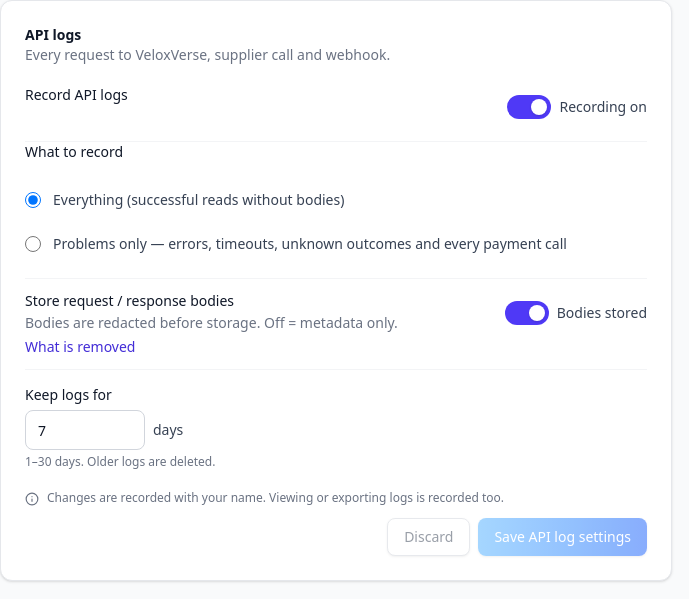
Scenario: ApiLogSettingsCard › keeps Save disabled until something changes
expect the button "Save API log settings" is disabled: met, box top-left (478, 518), bottom-right (647, 556)
Click the radio button labelled "Problems only".
click(33, 244)  # box top-left (25, 236), bottom-right (41, 252)
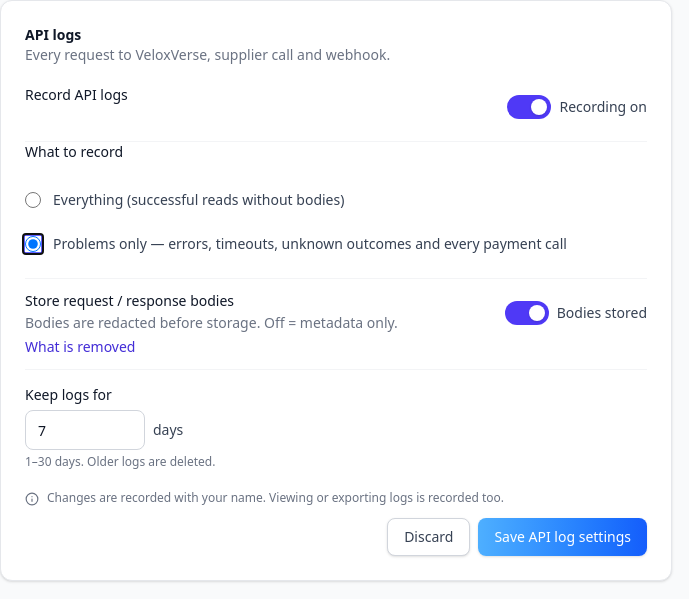
expect the button "Save API log settings" is enabled: met, box top-left (478, 518), bottom-right (647, 556)
Click the radio button labelled "Everything (successful reads without bodies)".
click(33, 200)  # box top-left (25, 192), bottom-right (41, 208)
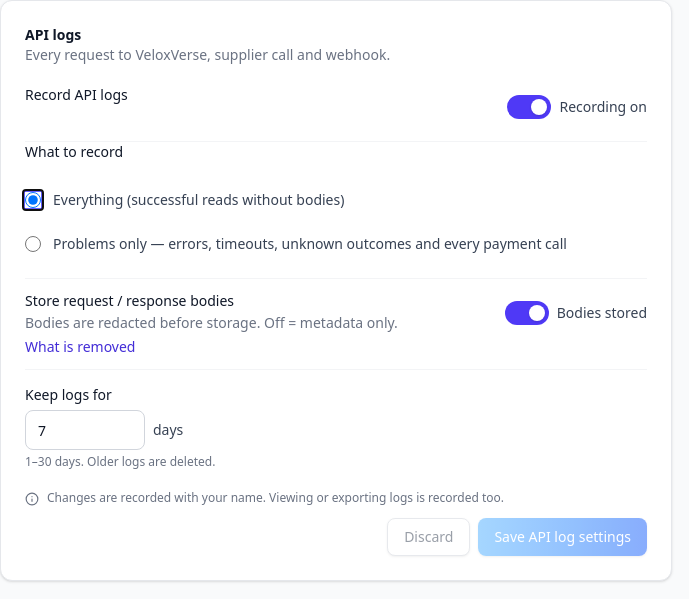
expect the button "Save API log settings" is disabled: met, box top-left (478, 518), bottom-right (647, 556)
